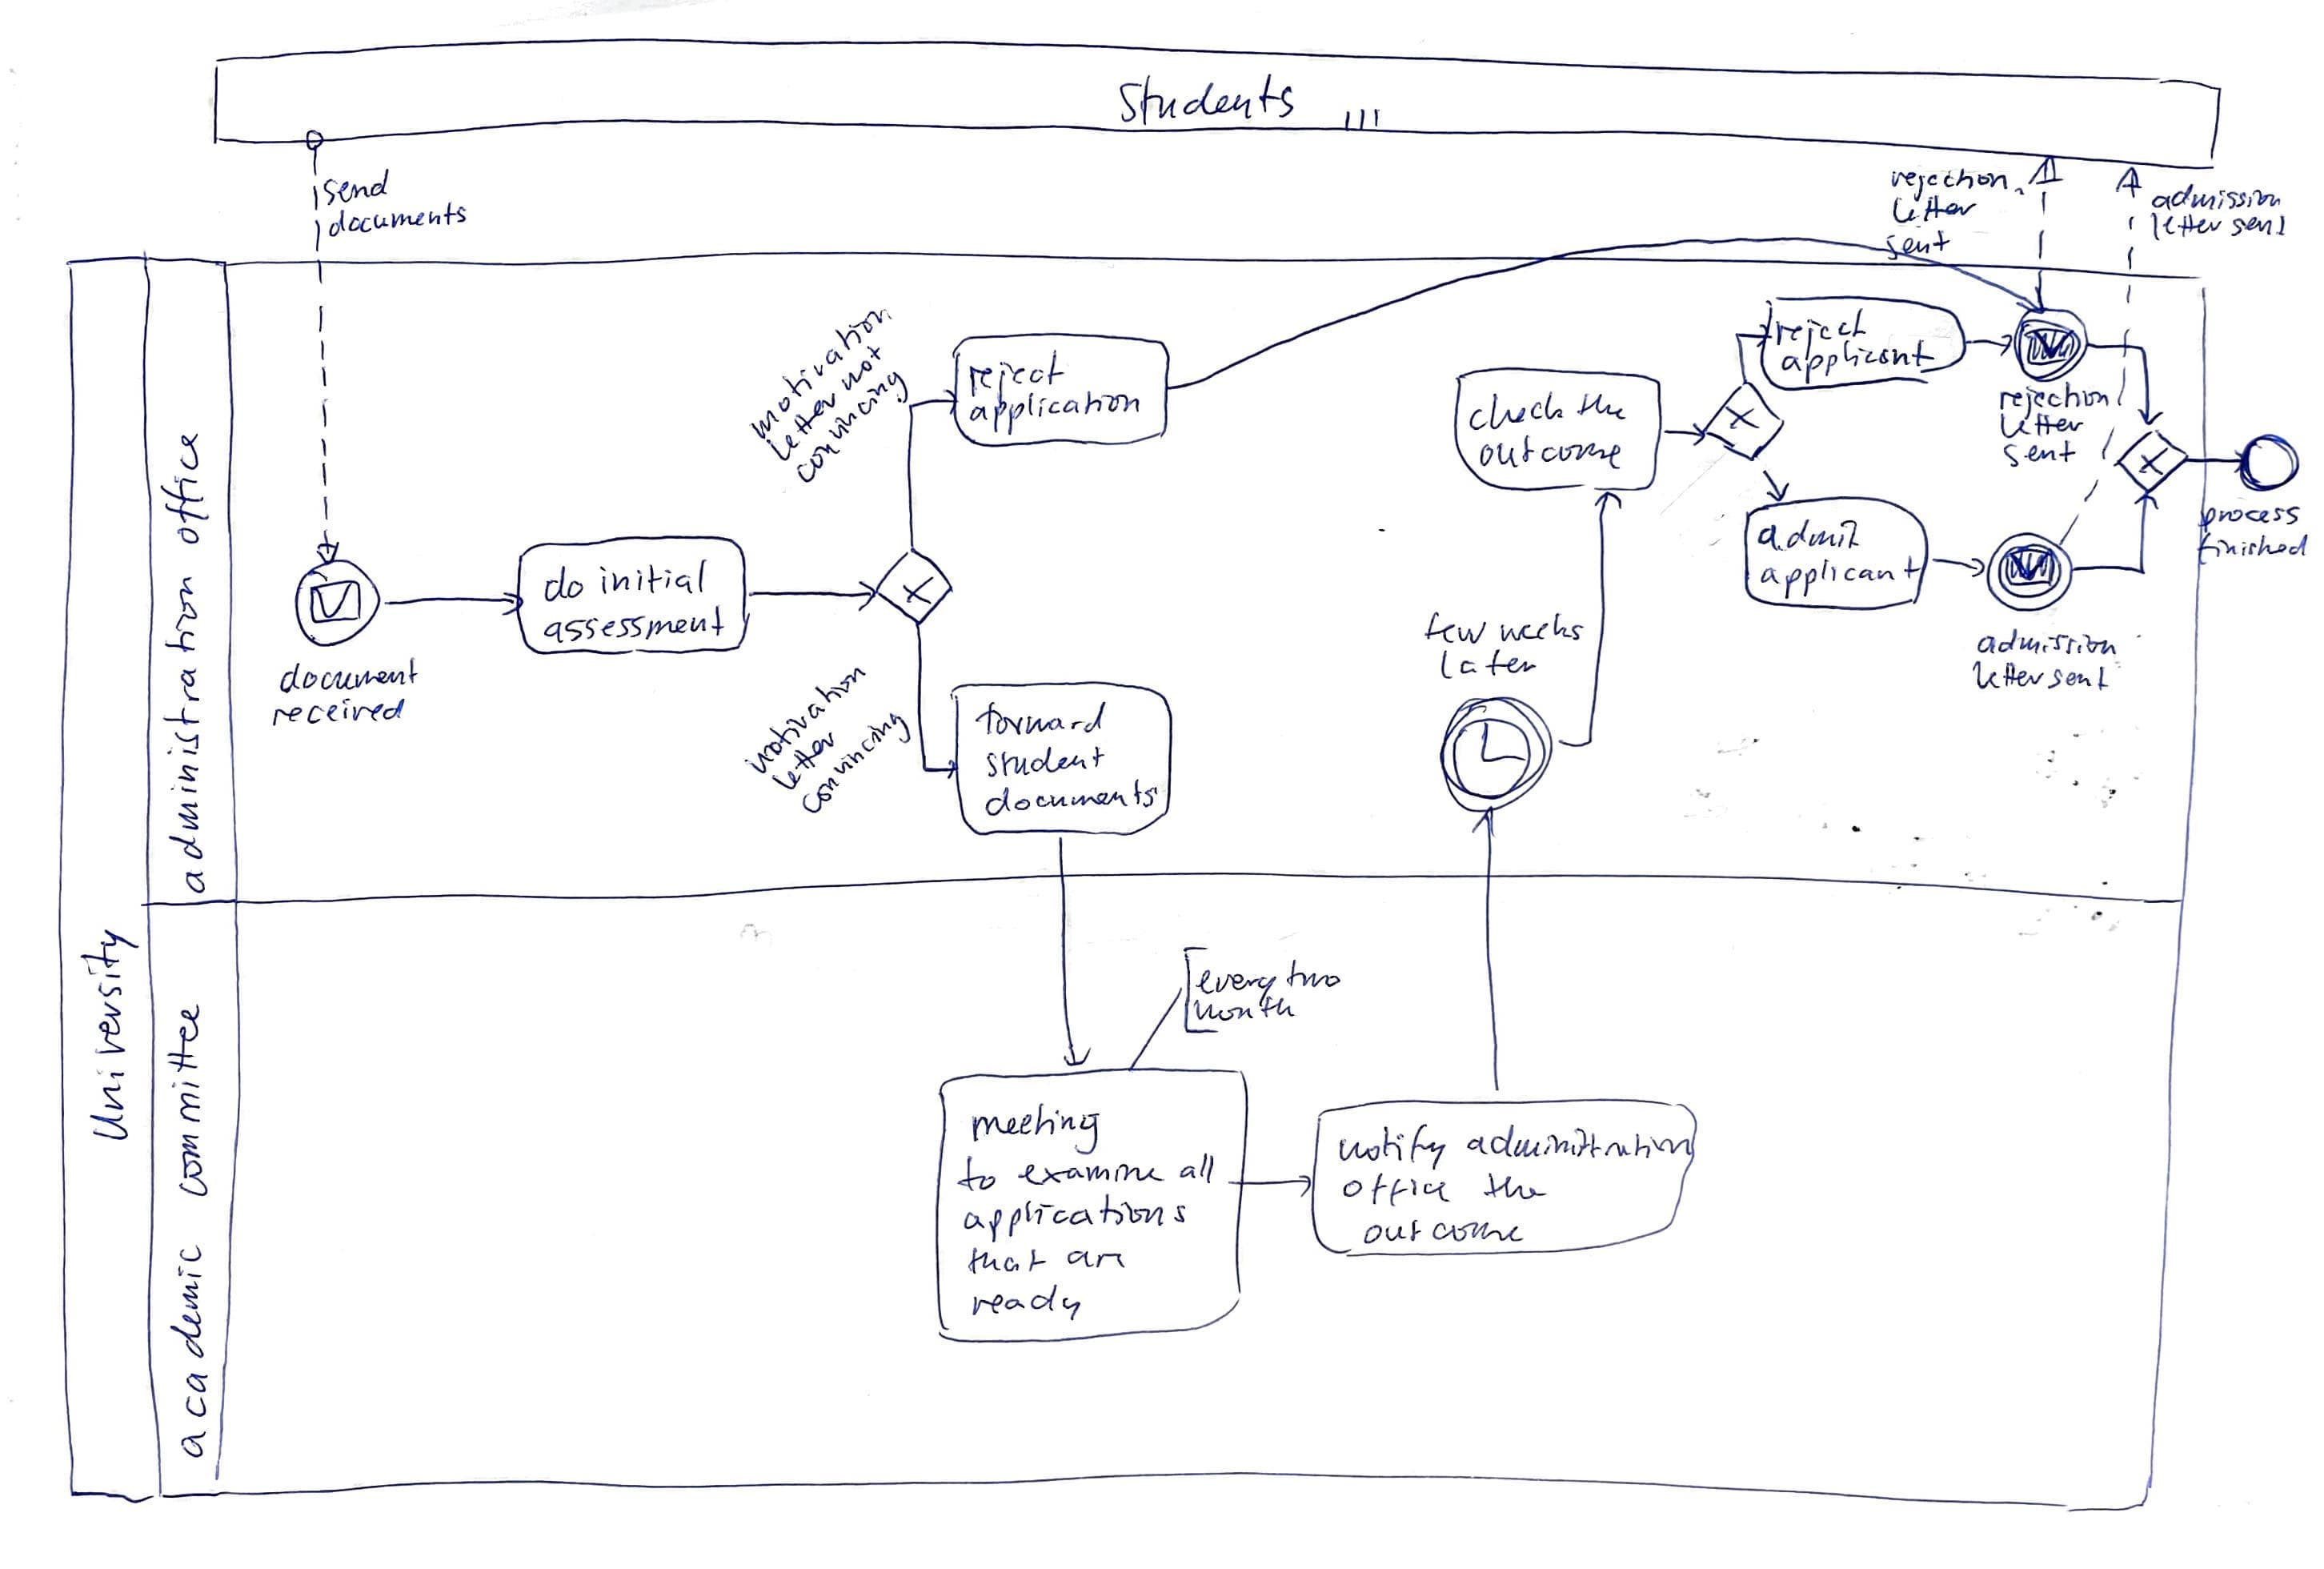Convincing: (794, 704, 911, 819)
III: (1336, 105, 1382, 146)
Month: (1197, 991, 1301, 1033)
Motivation: (748, 656, 870, 772)
University: (81, 933, 139, 1138)
academic: (168, 1227, 213, 1471)
administration: (159, 556, 214, 890), (1466, 1127, 1693, 1166)
admission: (1981, 629, 2125, 661), (2154, 175, 2282, 211)
admit: (1761, 518, 1863, 556)
all: (1180, 1156, 1216, 1189)
am: (1070, 1244, 1122, 1278)
applicant: (1785, 335, 1943, 381), (1762, 556, 1927, 594)
application: (969, 387, 1147, 432)
applications: (962, 1198, 1191, 1242)
assessment: (547, 606, 725, 646)
check: (1465, 391, 1566, 435)
committee: (166, 1002, 210, 1198)
convincing: (791, 363, 911, 486)
do: (547, 567, 586, 607)
document: (283, 661, 420, 698)
documents: (983, 777, 1165, 820), (330, 200, 469, 247)
every: (1194, 957, 1274, 996)
examine: (1020, 1157, 1174, 1193)
few: (1423, 612, 1499, 648)
finished: (2191, 531, 2316, 566)
forward: (976, 700, 1111, 741)
initial: (591, 560, 708, 603)
later: (1433, 648, 1538, 681)
letter: (764, 377, 852, 464), (768, 717, 846, 796), (1996, 404, 2089, 440), (1891, 196, 1976, 226), (1970, 661, 2043, 694), (2140, 215, 2222, 241)
meeting: (973, 1106, 1097, 1150)
motivation: (755, 295, 896, 432)
not: (840, 340, 890, 389)
notify: (1336, 1123, 1451, 1164)
office: (159, 431, 206, 548), (1345, 1173, 1463, 1208)
outcome: (1473, 435, 1625, 474), (1366, 1218, 1518, 1250)
process: (2200, 503, 2305, 533)
ready: (970, 1288, 1084, 1321)
received: (270, 696, 409, 728)
reject: (962, 353, 1068, 396), (1773, 310, 1870, 346)
rejection: (1997, 380, 2120, 409), (1888, 163, 2011, 193)
send: (323, 170, 396, 211), (2230, 214, 2290, 239)
sent: (2003, 442, 2081, 470), (2048, 663, 2114, 694), (1884, 230, 1951, 258)
student: (980, 742, 1108, 782)
students: (1114, 73, 1301, 121)
that: (965, 1246, 1062, 1279)
the: (1485, 1172, 1549, 1207), (1572, 390, 1628, 429)
to: (956, 1159, 1012, 1195)
two: (1280, 957, 1342, 996)
weeks: (1505, 612, 1584, 648)
